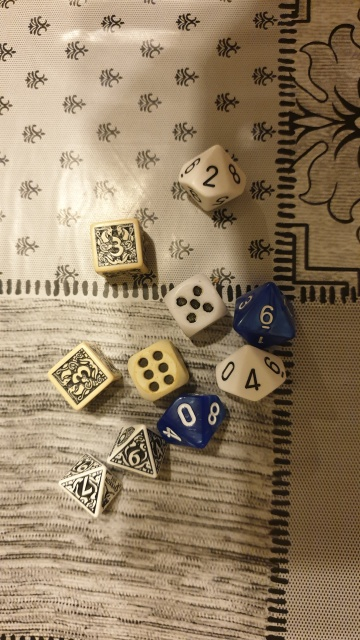d10-10: (152, 390, 231, 456)
d10-2: (175, 139, 254, 216)
d10-4: (212, 344, 296, 408)
d10-6: (230, 282, 299, 353)
d6-5: (161, 269, 228, 339)
d6-6: (124, 339, 184, 403)
d6p-3: (45, 339, 117, 418), (89, 218, 148, 277)
d8p-6: (106, 419, 168, 486)
d8p-7: (54, 450, 122, 520)
